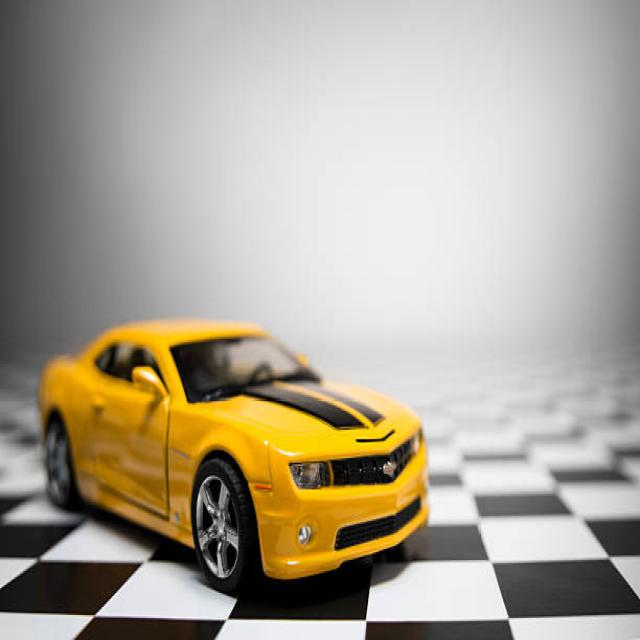Car: (37, 315, 430, 596)
